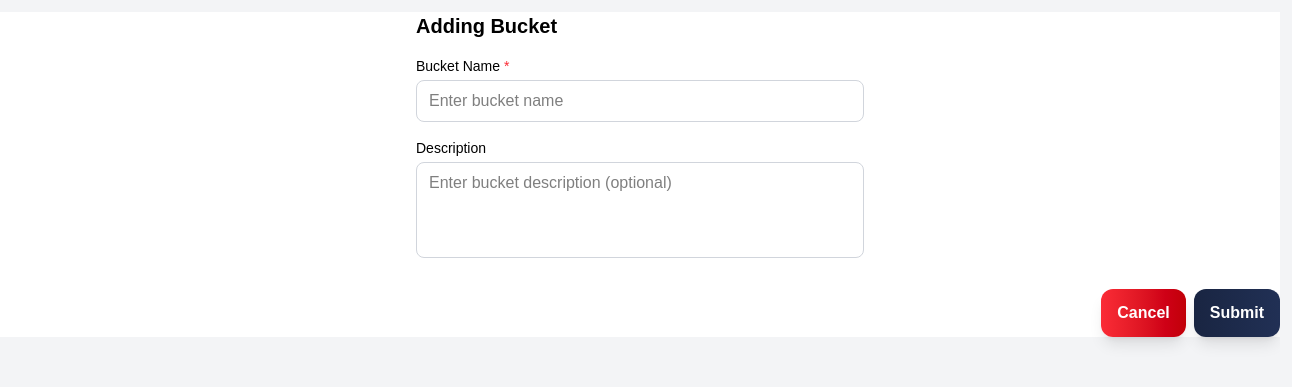
Test: AddEditBucket validation › blocks submit and focuses the first offending field
Click the button "Submit".
click(1237, 313)  # box [1194,289,1280,337]
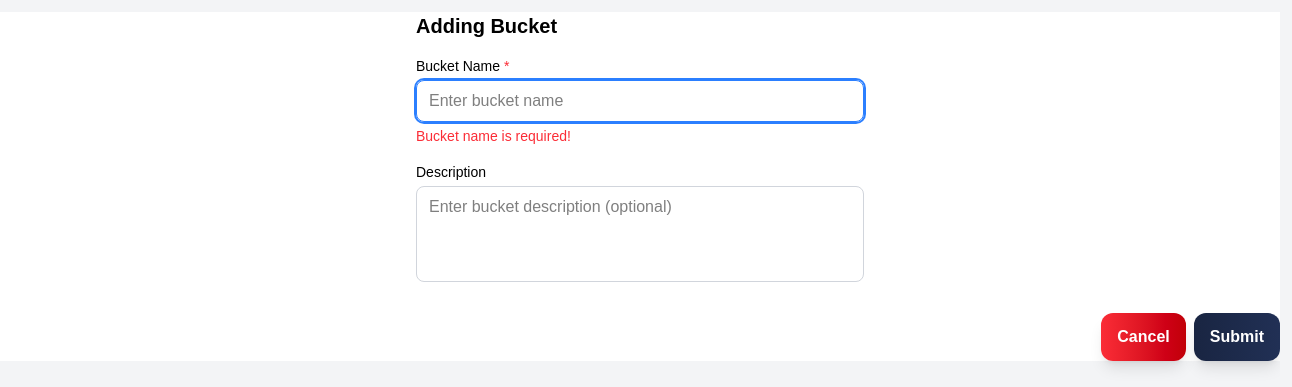
expect the text "Bucket name is required!" is shown: met, box [416,128,571,144]
